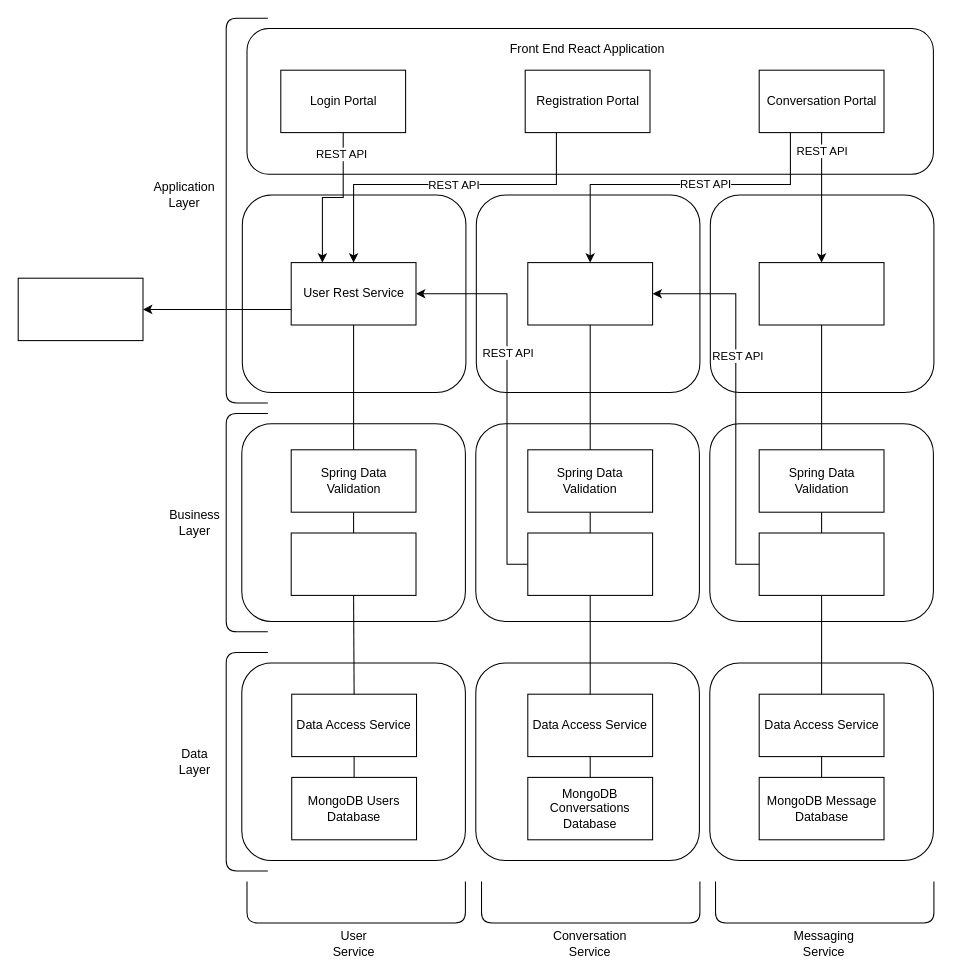
The diagram is 954 pixels wide and 977 high, and some of its shapes have lost their labels. The shapes that lost their labels are listed below. From the top down, each one's centre as x and y in pixels, then its label:
At point 80,309: "GitHub OAuth Provider".
At point 590,293: "Conversation Rest Service".
At point 821,293: "Messages Rest Service".
At point 353,563: "User Business Service".
At point 590,563: "Conversation Business Service".
At point 821,563: "Message Business Service".
